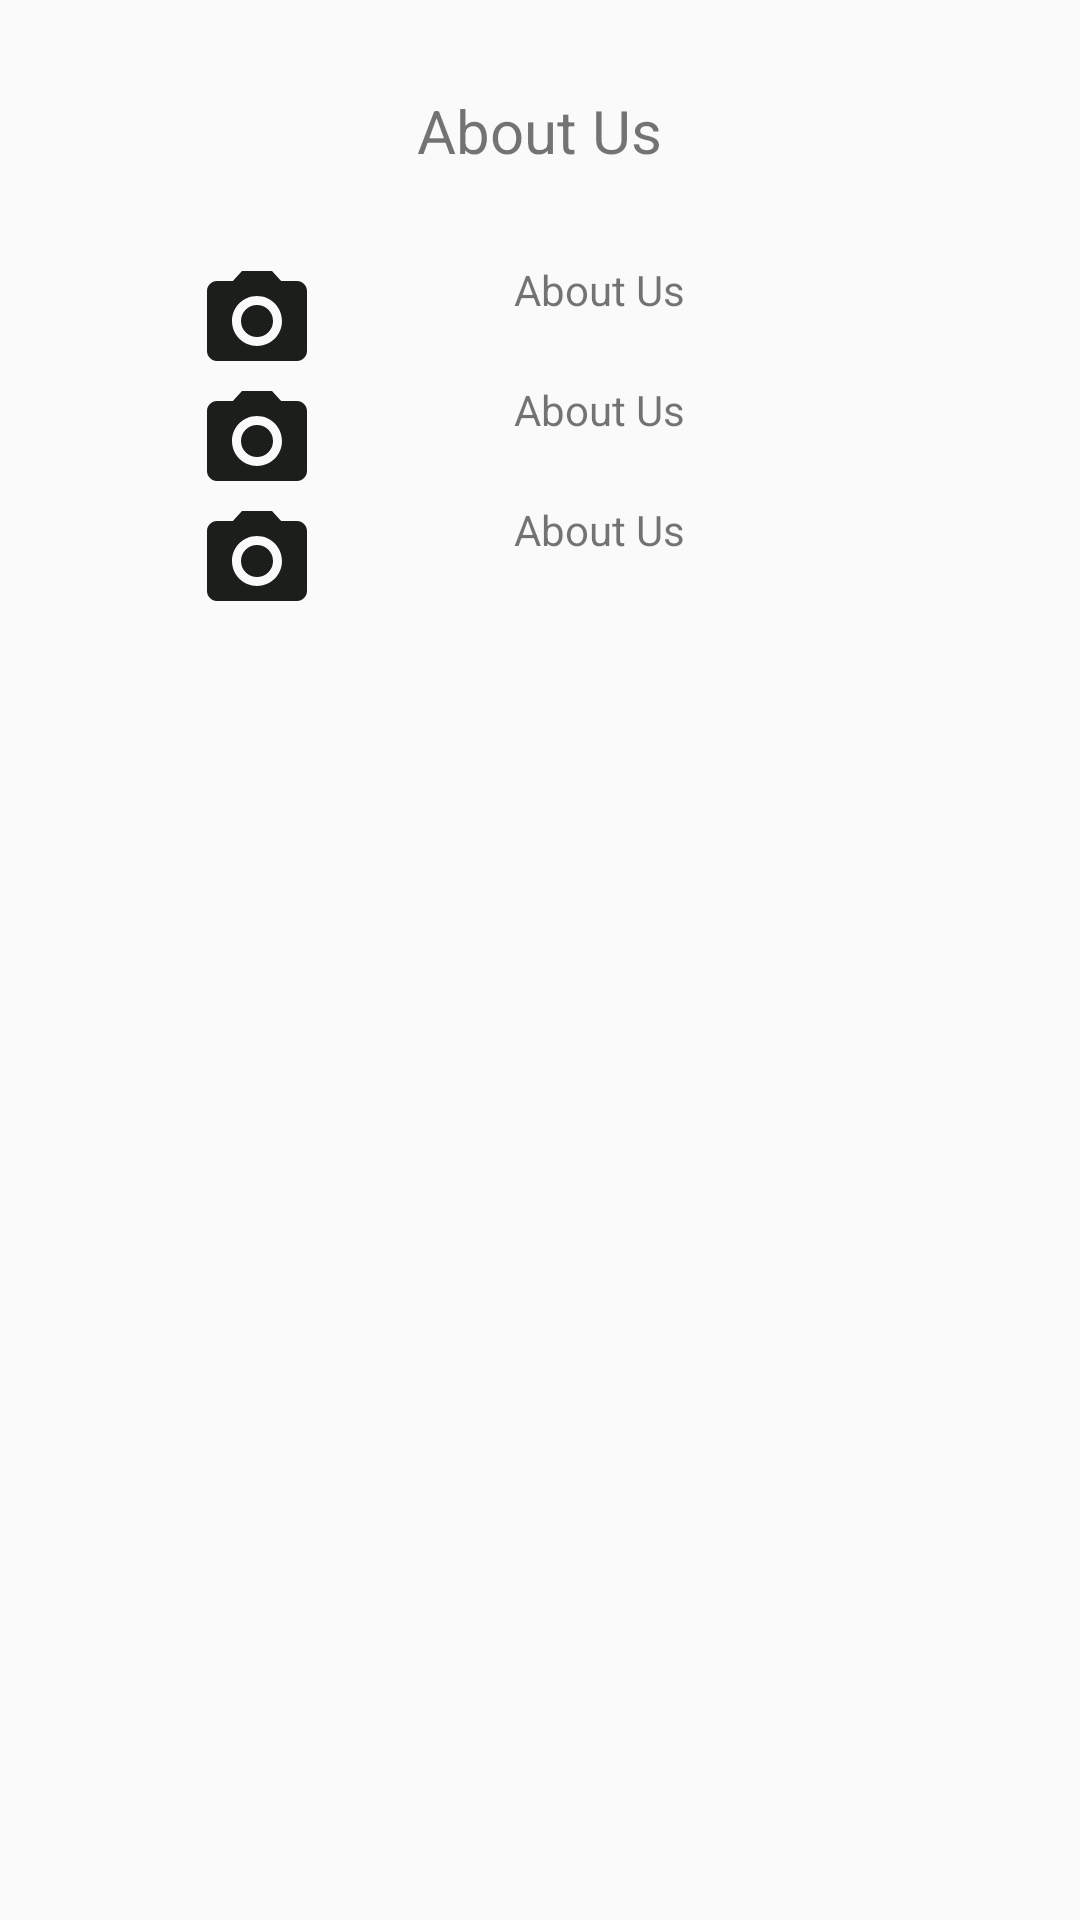

Locate icon controls on the screen. Image size 1080 × 1920, boxes as (x1, y1, x2, y2).
camera: (207, 271, 307, 361), (207, 391, 307, 481), (207, 511, 307, 601)
